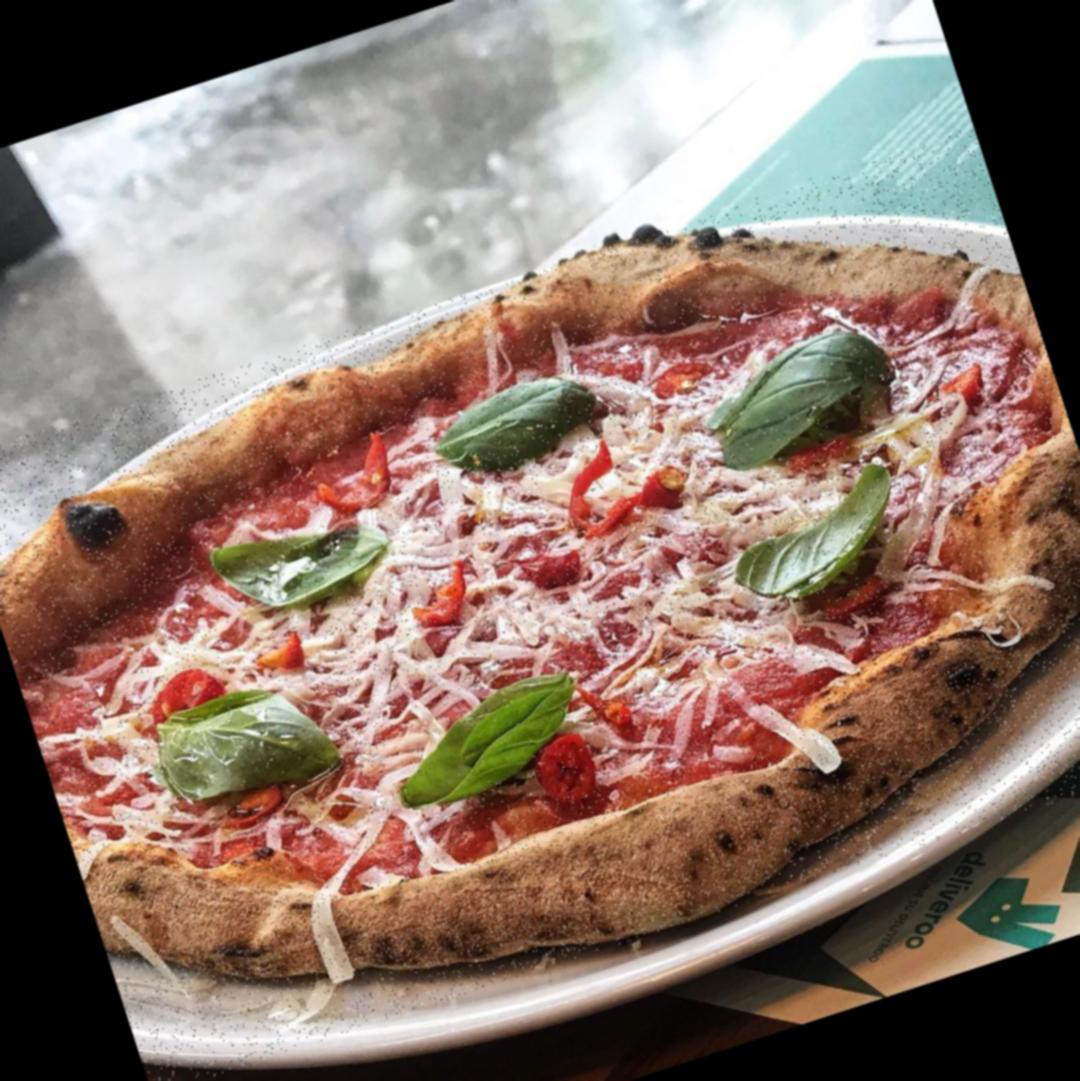Basil: (686, 311, 906, 483), (376, 659, 606, 812), (142, 660, 340, 832), (706, 459, 918, 613), (195, 491, 408, 636), (430, 359, 616, 482)
Pizza: (0, 126, 1080, 1081)
Tomatoes: (534, 439, 672, 543), (311, 431, 411, 515), (401, 560, 485, 628), (532, 731, 609, 800), (139, 662, 214, 724), (507, 538, 574, 595), (250, 641, 316, 682)
